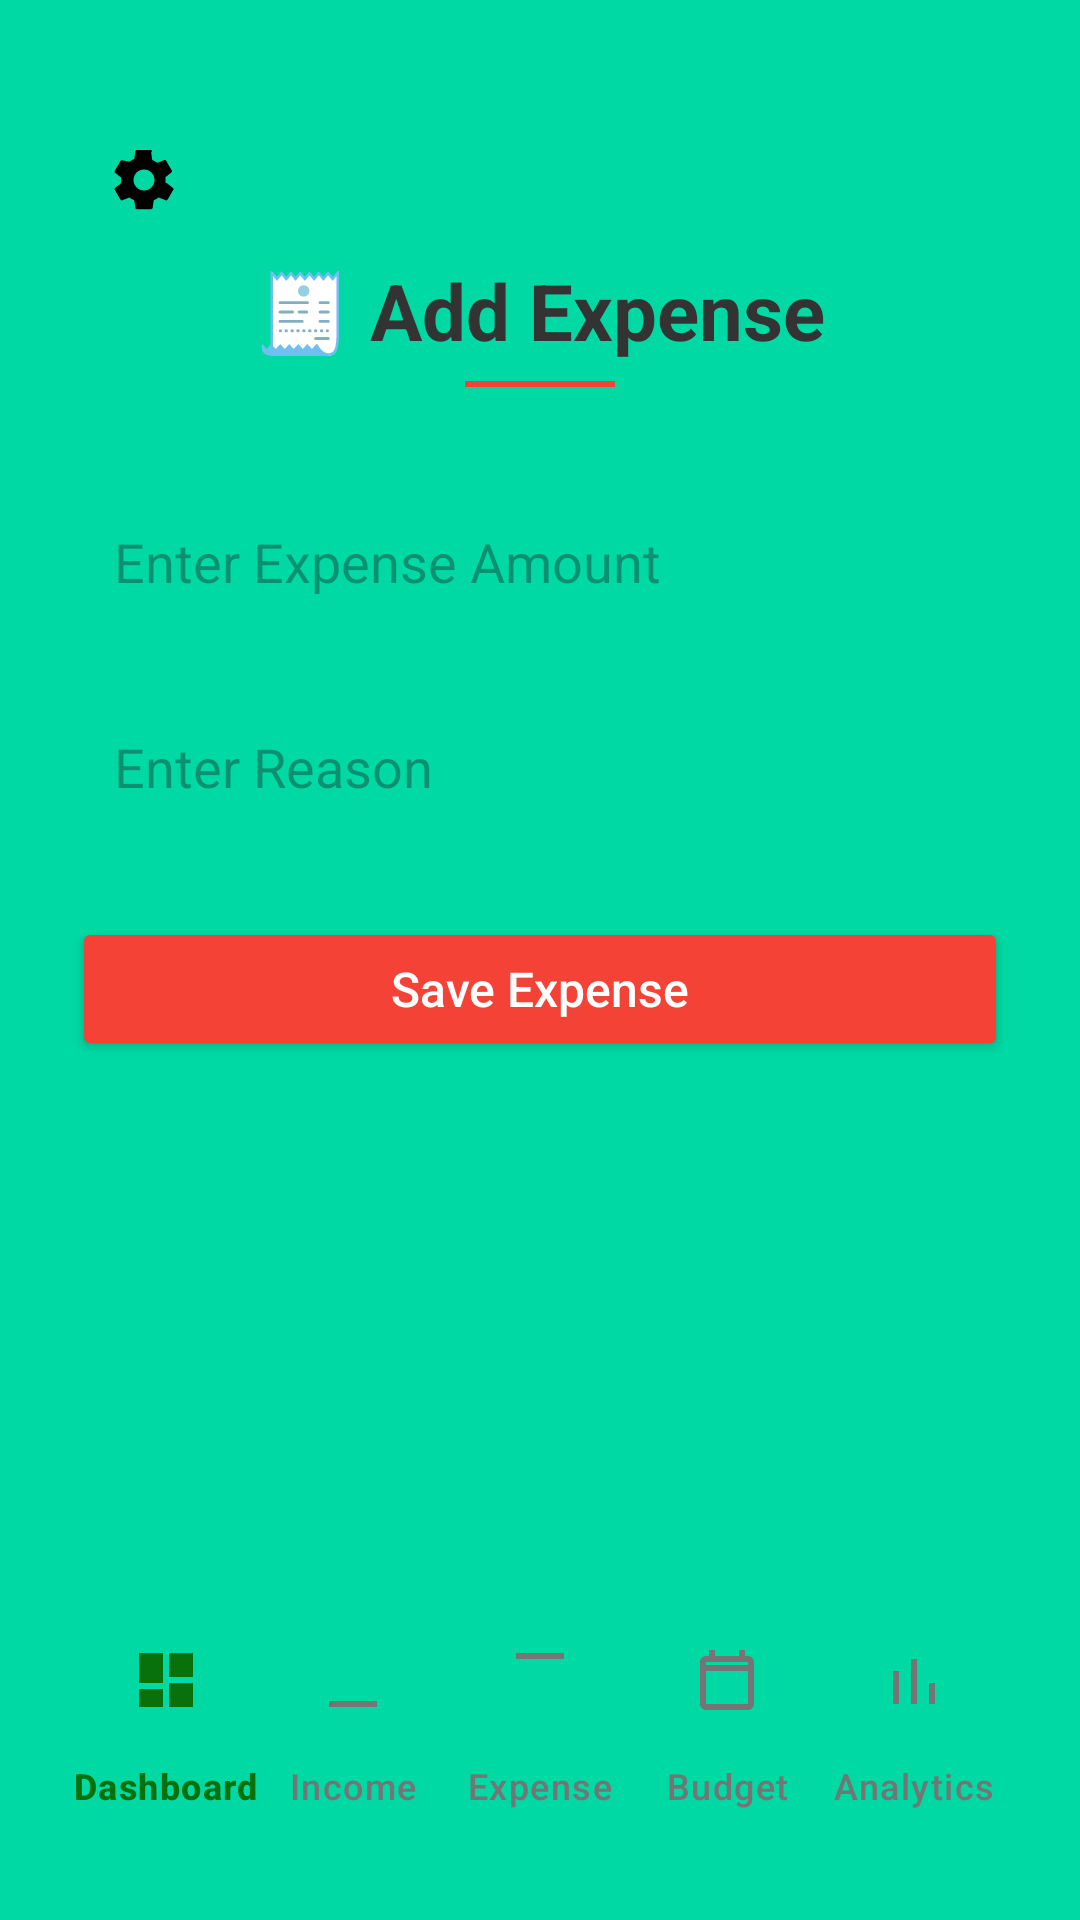

Icons on this 1080 x 1920 Android screen, each with its box as (x1, y1, x2, y2):
Setting: (114, 150, 174, 210)
